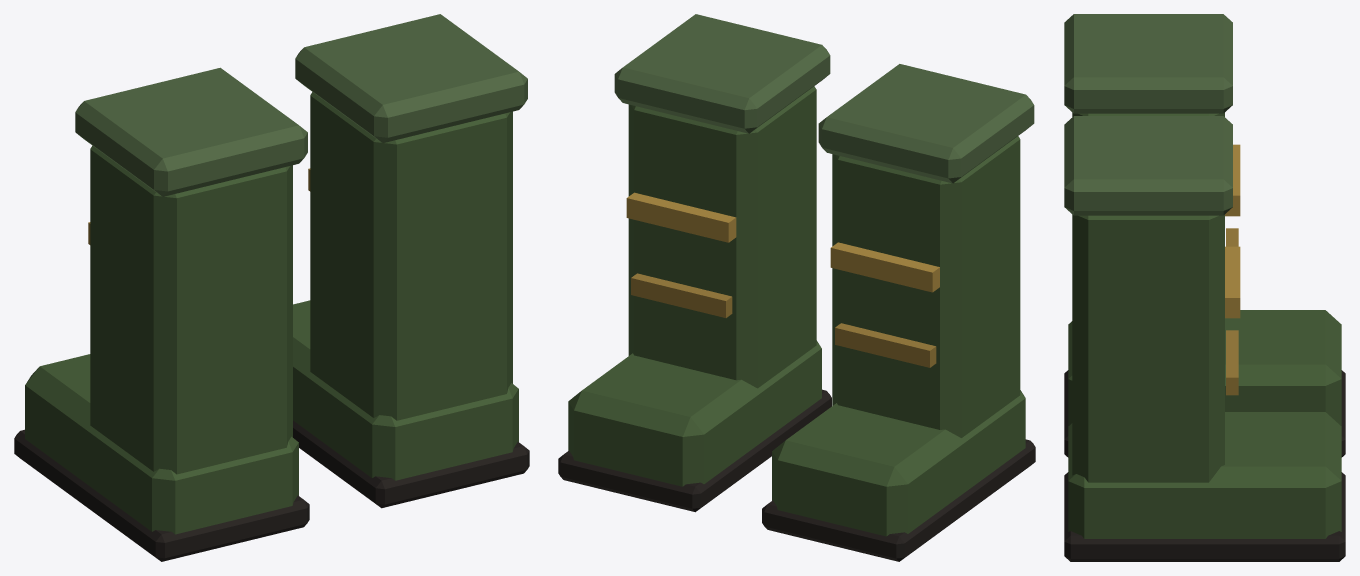
Rendered from WaderBoots.glb.
3 views of the same model, side by side, from view 1: azimuth 30°, elevation 25°; view 2: azimuth 150°, elevation 25°; view 3: azimuth 270°, elevation 25° (orthographic). The views are drawn at different scales.
Visible parts, largest first — view 1: Body; view 2: Body; view 3: Body.
Part boxes in pixels (<box>): Body: <box>14,14,529,561</box>; Body: <box>558,14,1035,561</box>; Body: <box>1064,14,1345,561</box>.
Bounding box in the file's own units: 2.55 × 2.62 × 1.75.
